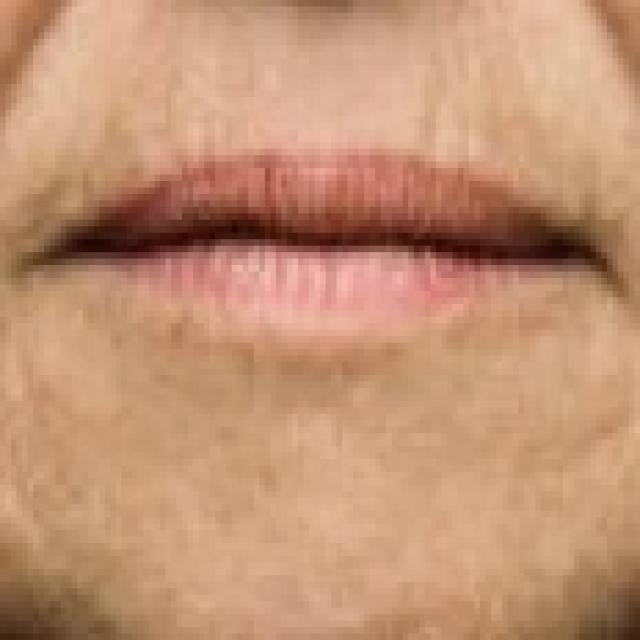closed-mouth: (16, 142, 618, 336)
